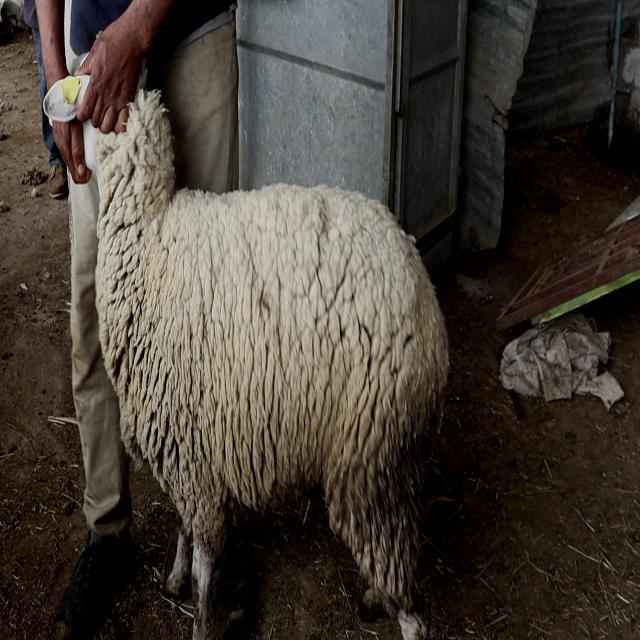Score_4: (44, 75, 449, 639)
